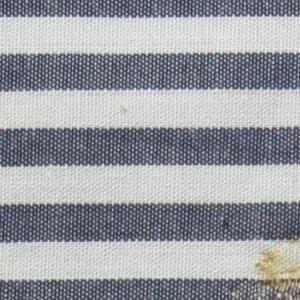Damage: (226, 280, 246, 300), (220, 218, 234, 235)
Oil Stain: (254, 232, 300, 300)
